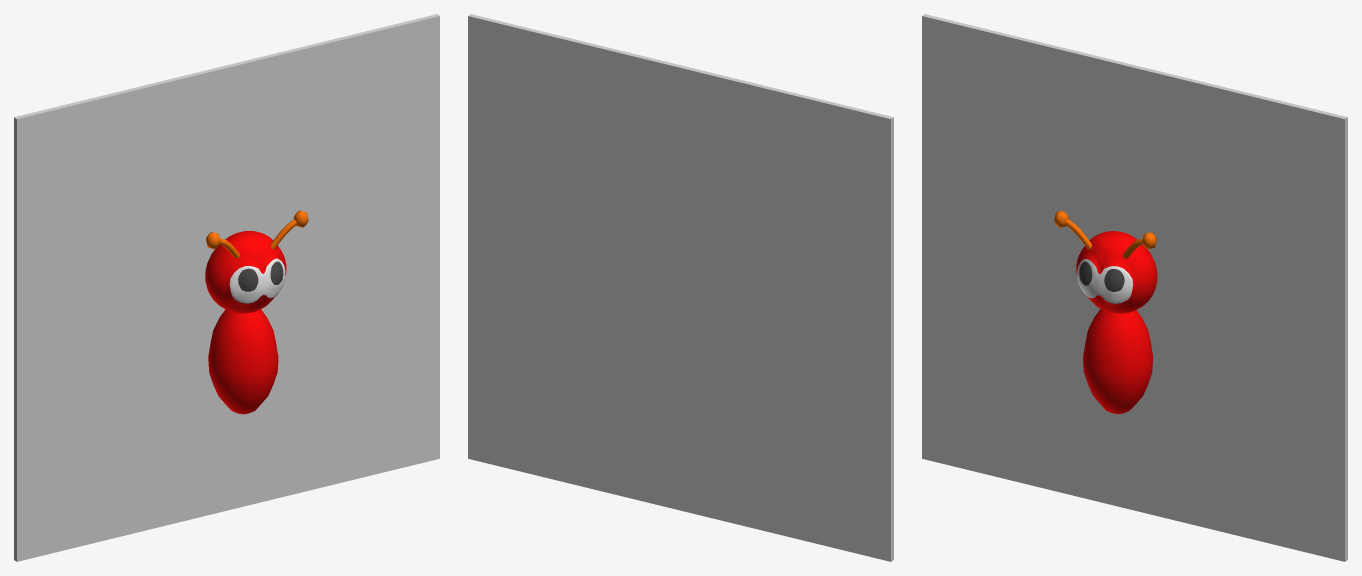
Rendered from BUOM MUOM.fbx.
The picture shows the model from 3 angles, left to right: view 1: azimuth 30°, elevation 25°; view 2: azimuth 150°, elevation 25°; view 3: azimuth 330°, elevation 25°; orthographic projection.
Visible parts, largest first — view 1: buom; view 2: buom; view 3: buom.
Boxes of the visible parts, x1,y1,x2,y2 form: buom: (14, 14, 439, 561); buom: (468, 14, 893, 561); buom: (922, 14, 1347, 561).
Size of the model in its own units: 67.74 by 67.74 by 10.76.
